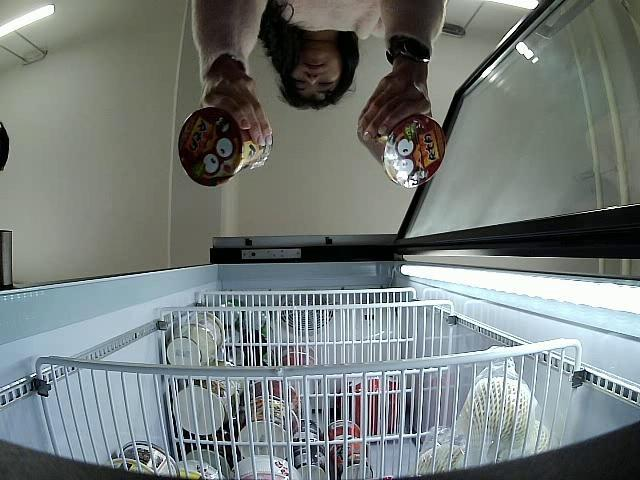06_nuguri_S: (178, 106, 274, 188), (356, 109, 446, 186)
